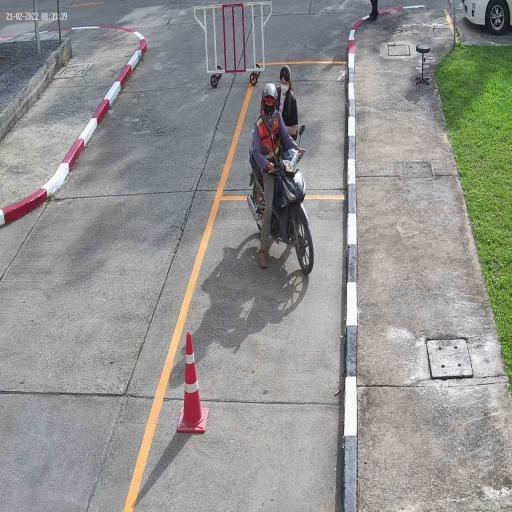motorcycle: (250, 145, 316, 280)
